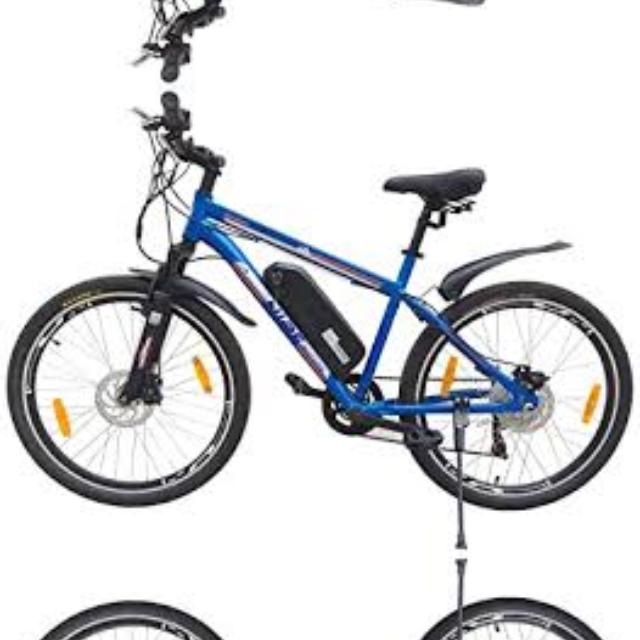obstacle: (3, 88, 640, 552), (3, 554, 640, 640), (3, 0, 640, 84)
